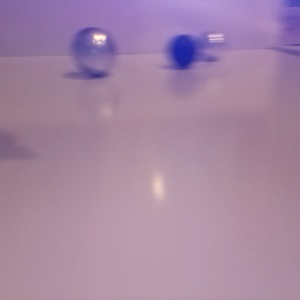alive_ball: (71, 26, 116, 74), (198, 31, 228, 60)
dead_ball: (171, 34, 196, 66)
